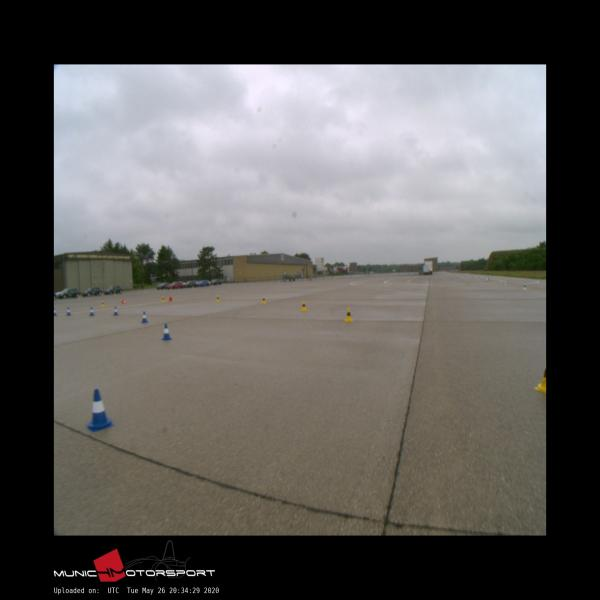blue_cone: (86, 389, 114, 432), (160, 324, 172, 340), (141, 312, 148, 323), (113, 306, 119, 315), (89, 307, 95, 316), (67, 308, 71, 316), (54, 308, 56, 316)
yellow_cone: (344, 308, 353, 321), (301, 301, 307, 311), (262, 296, 266, 303), (216, 295, 220, 302), (161, 296, 165, 302), (101, 300, 104, 307)
